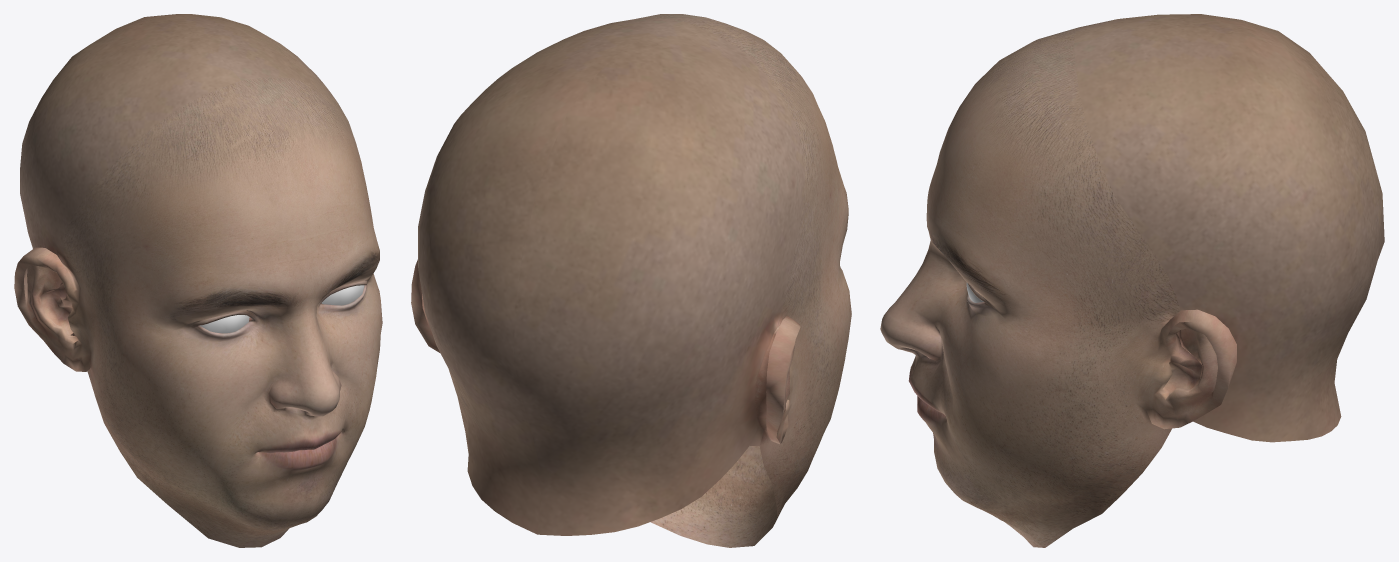
File: Fat.obj
3 views of the same model, side by side, from view 1: azimuth 30°, elevation 25°; view 2: azimuth 150°, elevation 25°; view 3: azimuth 270°, elevation 25° (orthographic). The views are drawn at different scales.
Parts seen in each view (by area): view 1: Head, rEye, lEye; view 2: Head; view 3: Head.
Part boxes in pixels (<box>): Head: <box>14,14,382,547</box>; rEye: <box>200,315,249,333</box>; lEye: <box>321,285,364,305</box>; Head: <box>411,14,851,547</box>; Head: <box>880,14,1384,547</box>.
Size of the model in its own units: 18.48 by 26.19 by 23.47.
